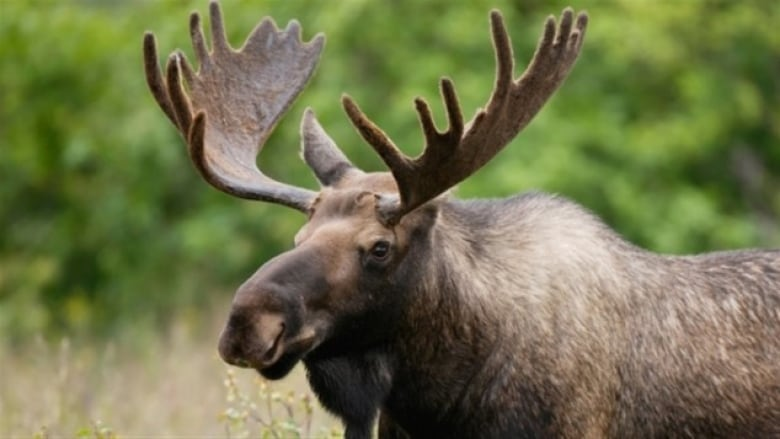moose: (133, 1, 611, 388)
